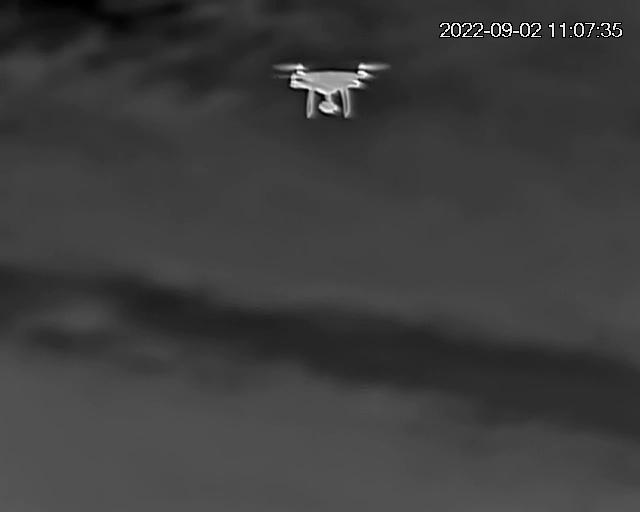DJI-Phantom: (277, 61, 384, 118)
